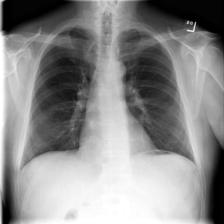normal: (17, 20, 200, 170)
